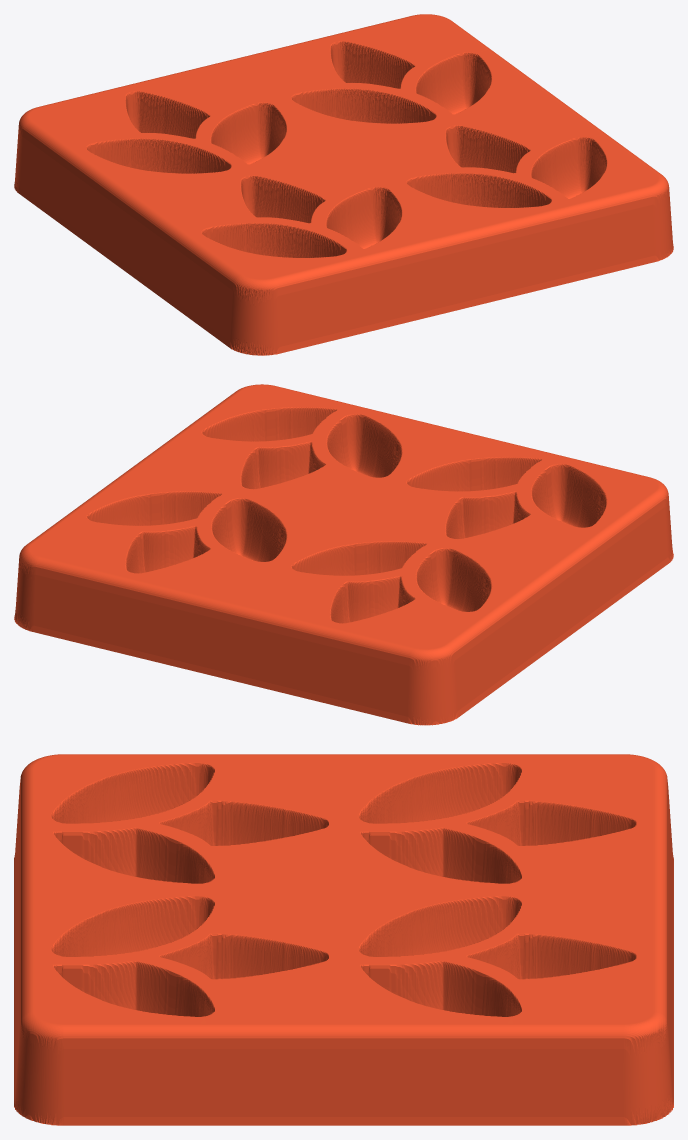
The model's file is mold.glb.
3 renders of one model, top to bottom at view 1: azimuth 30°, elevation 25°; view 2: azimuth 150°, elevation 25°; view 3: azimuth 270°, elevation 25°, orthographic. The views are drawn at different scales.
Visible parts, largest first — view 1: geometry_0; view 2: geometry_0; view 3: geometry_0.
Boxes of the visible parts, <box> form: geometry_0: <box>14,14,673,355</box>; geometry_0: <box>14,384,673,725</box>; geometry_0: <box>14,754,673,1125</box>.
Size of the model in its own units: 0.1218 by 0.0185 by 0.119.
